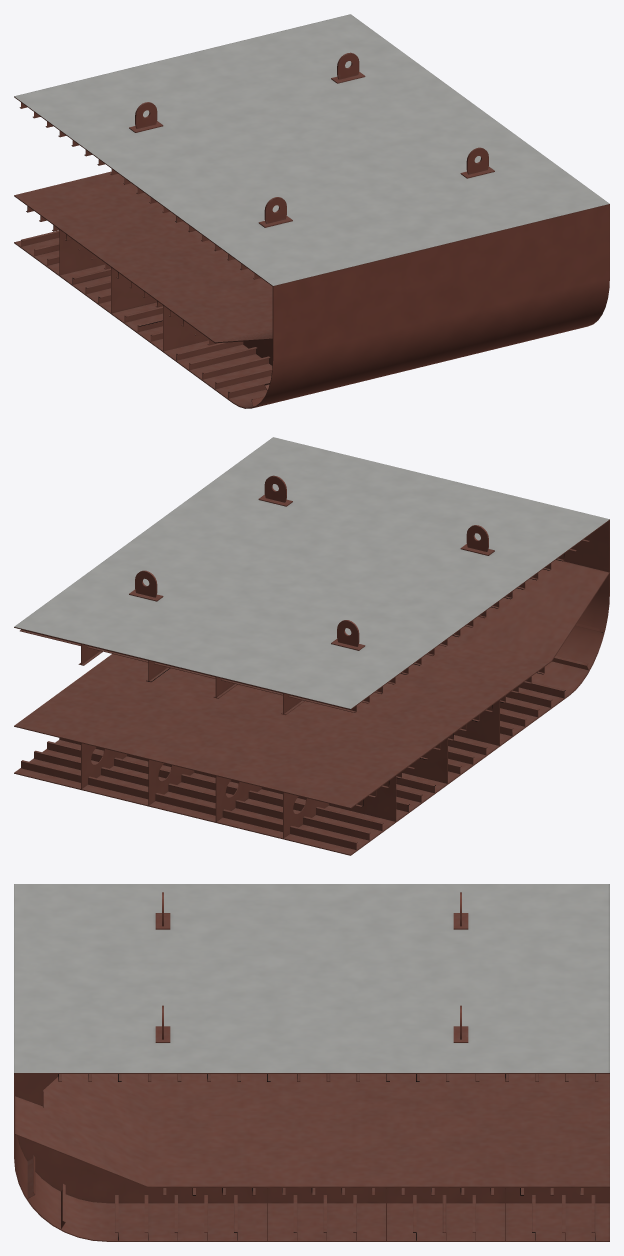
The model's file is ShipBlockCurved.fbx.
3 renders of one model, top to bottom at view 1: azimuth 30°, elevation 25°; view 2: azimuth 150°, elevation 25°; view 3: azimuth 270°, elevation 25°, orthographic. The views are drawn at different scales.
Parts seen in each view (by area): view 1: ShipBlockCurved_LOD0; view 2: ShipBlockCurved_LOD0; view 3: ShipBlockCurved_LOD0.
Boxes of the visible parts, <box> form: ShipBlockCurved_LOD0: <box>14,14,609,408</box>; ShipBlockCurved_LOD0: <box>14,437,609,855</box>; ShipBlockCurved_LOD0: <box>14,884,609,1241</box>.
Size of what is drawn, in the model's own units: 12 by 5.84 by 16.
1 material, 1 textured.
